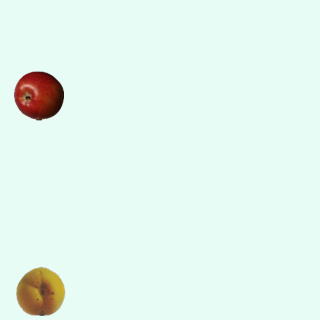Apple Braeburn: (13, 70, 63, 120)
Peach 2: (15, 265, 65, 315)
